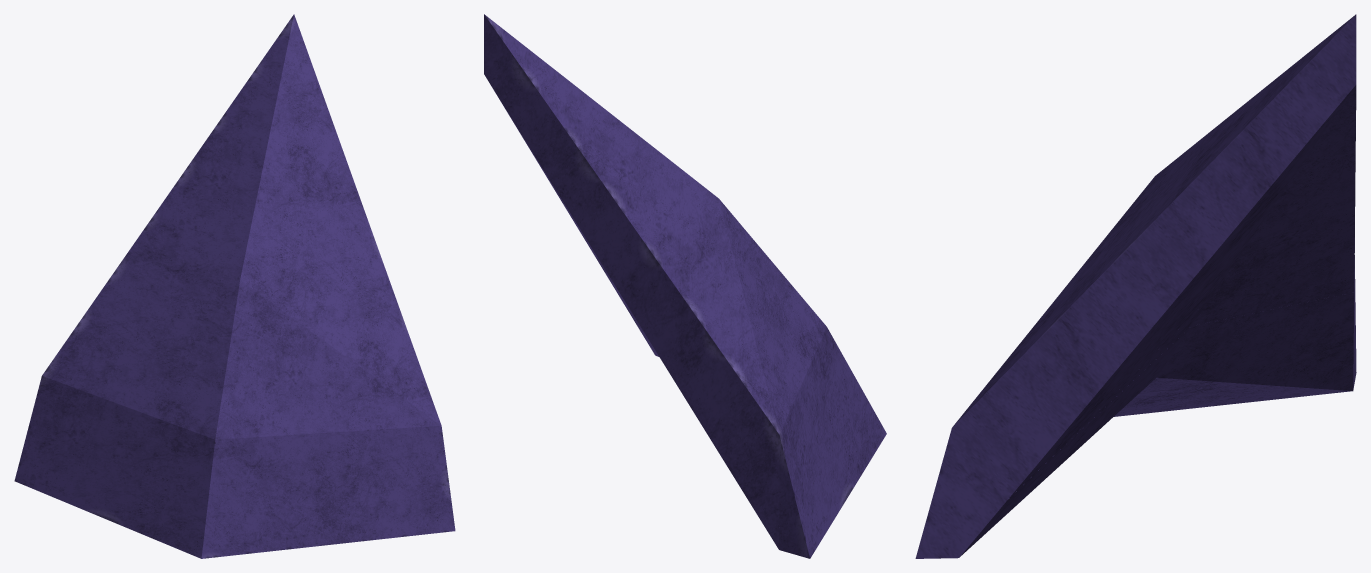
The model's file is rounded_roof_root.fbx.
The picture shows the model from 3 angles, left to right: view 1: azimuth 30°, elevation 25°; view 2: azimuth 150°, elevation 25°; view 3: azimuth 270°, elevation 25°; orthographic projection. The views are drawn at different scales.
Visible parts, largest first — view 1: rounded_roof_sh_1, rounded_roof_sh_2, rounded_roof_sh_3; view 2: rounded_roof_sh_1, rounded_roof_sh_2, rounded_roof_sh_3; view 3: rounded_roof_sh_2, rounded_roof_sh_1, rounded_roof_sh_3.
Part boxes in pixels (x1,y1,x2,y2): rounded_roof_sh_1: [14, 284, 455, 558]; rounded_roof_sh_2: [150, 14, 445, 458]; rounded_roof_sh_3: [102, 221, 155, 289]; rounded_roof_sh_1: [634, 221, 886, 558]; rounded_roof_sh_2: [484, 14, 737, 320]; rounded_roof_sh_3: [589, 244, 711, 396]; rounded_roof_sh_2: [940, 14, 1356, 499]; rounded_roof_sh_1: [915, 238, 1356, 558]; rounded_roof_sh_3: [1061, 194, 1355, 448].
Bounding box in the file's own units: 300 × 409 × 300.
Materials: 1 (1 with a texture image).
